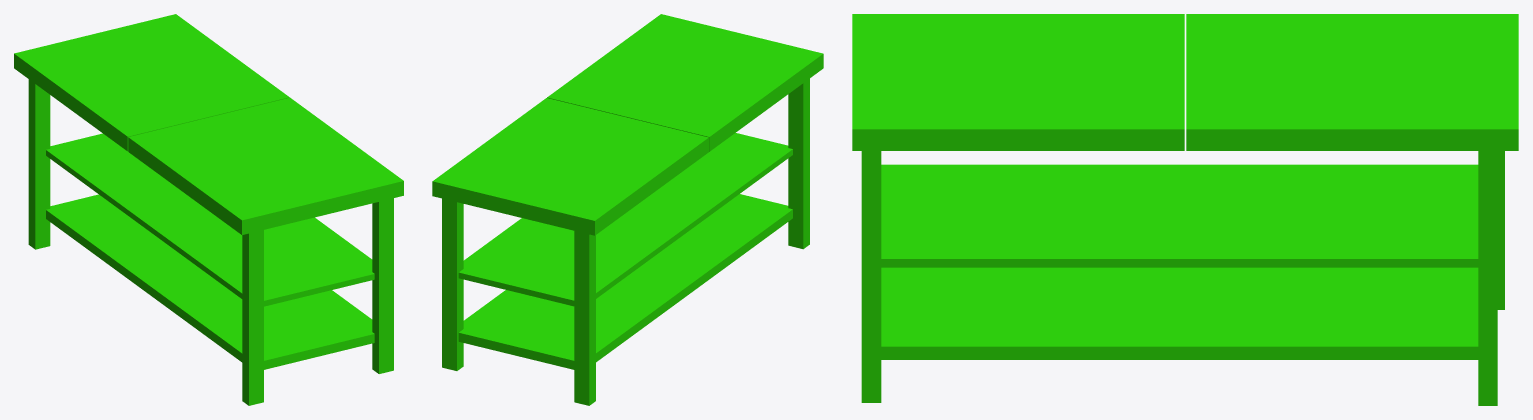
Rendered from Restaurant_Cupboard_03.fbx.
3 renders of one model, left to right at view 1: azimuth 30°, elevation 25°; view 2: azimuth 150°, elevation 25°; view 3: azimuth 270°, elevation 25°, orthographic. The views are drawn at different scales.
Parts seen in each view (by area): view 1: Restaurant_Cupboard_03; view 2: Restaurant_Cupboard_03; view 3: Restaurant_Cupboard_03.
Boxes of the visible parts, x1,y1,x2,y2 form: Restaurant_Cupboard_03: (14, 14, 403, 405); Restaurant_Cupboard_03: (432, 14, 823, 405); Restaurant_Cupboard_03: (852, 14, 1518, 405).
Bounding box in the file's own units: 71.51 × 80.34 × 174.
